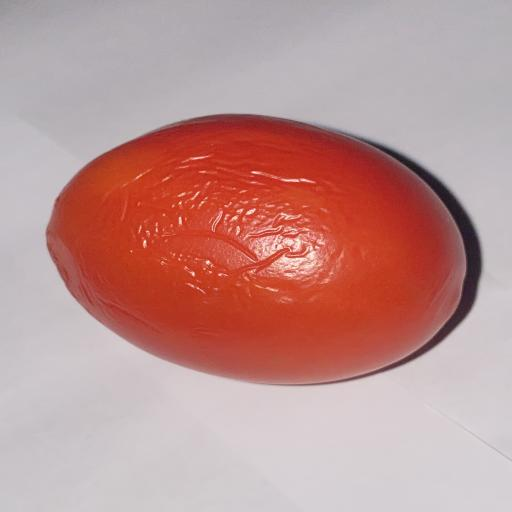spoiled: (47, 115, 466, 383)
